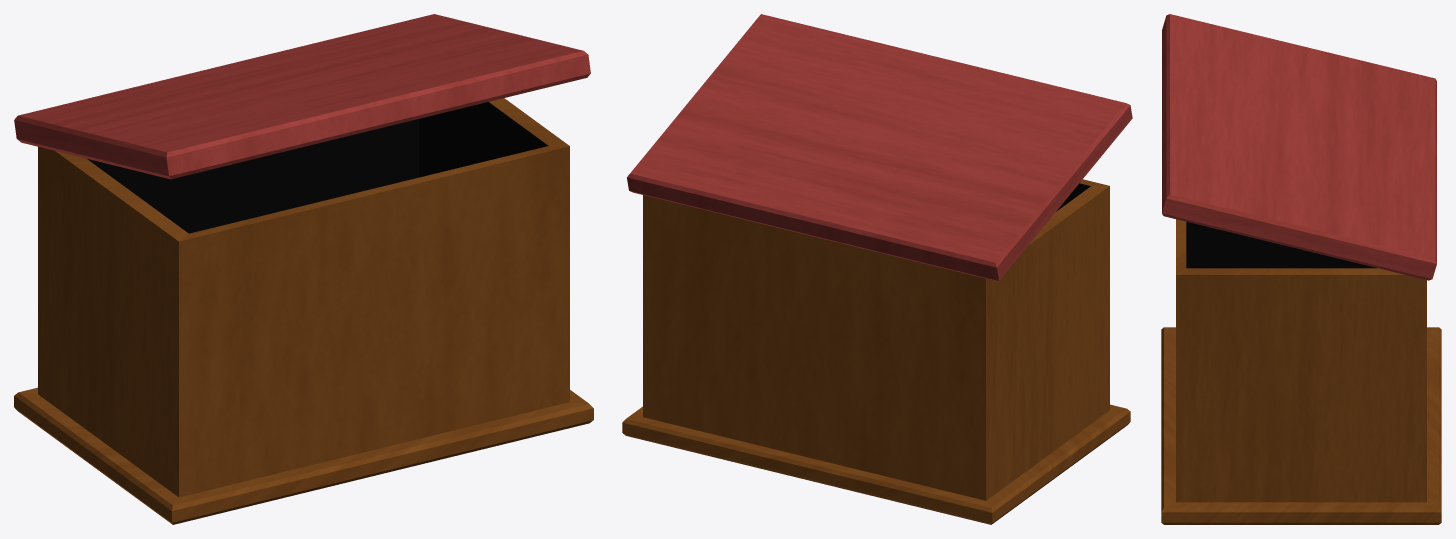
File: CofreAbierto_V2.fbx
3 views of the same model, side by side, from view 1: azimuth 30°, elevation 25°; view 2: azimuth 150°, elevation 25°; view 3: azimuth 270°, elevation 25° (orthographic). The views are drawn at different scales.
Parts seen in each view (by area): view 1: CajaAbierta_V2; view 2: CajaAbierta_V2; view 3: CajaAbierta_V2.
Part boxes in pixels (x1,y1,x2,y2): CajaAbierta_V2: (14, 14, 593, 524); CajaAbierta_V2: (622, 14, 1132, 524); CajaAbierta_V2: (1161, 14, 1441, 524).
Bounding box in the file's own units: 347 × 290 × 224.
